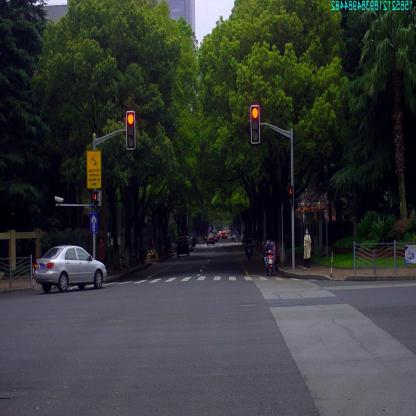traffic-light: (127, 111, 135, 149), (251, 106, 259, 142)
